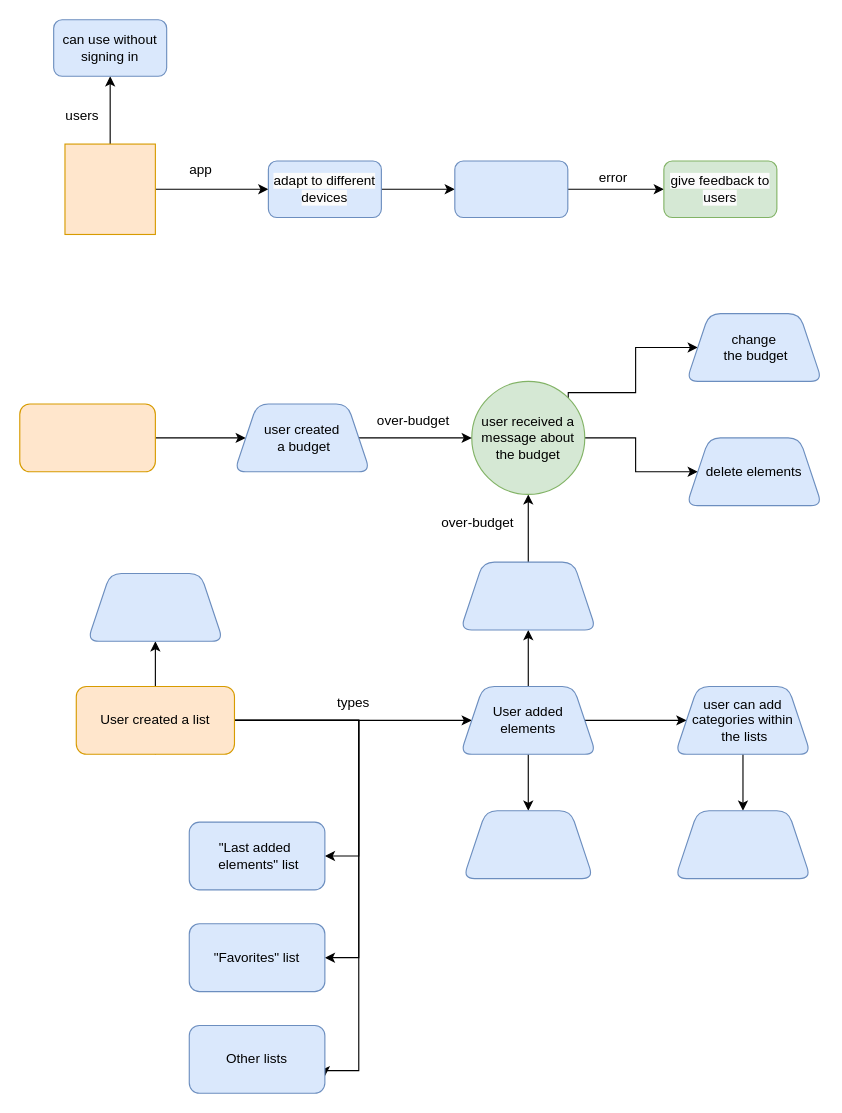
The diagram is 842 pixels wide and 1113 high, and some of its shapes have lost their labels. Each missing label, with the box of its shape:
application: (64, 143, 155, 234)
prevent errors: (454, 160, 568, 218)
User added info about the elements: (459, 561, 596, 630)
User can delete elements: (462, 810, 593, 879)
user can delete/rename categories: (674, 810, 811, 879)
user can rename/delete lists: (86, 572, 223, 641)
user wanted a budget: (19, 403, 155, 472)
